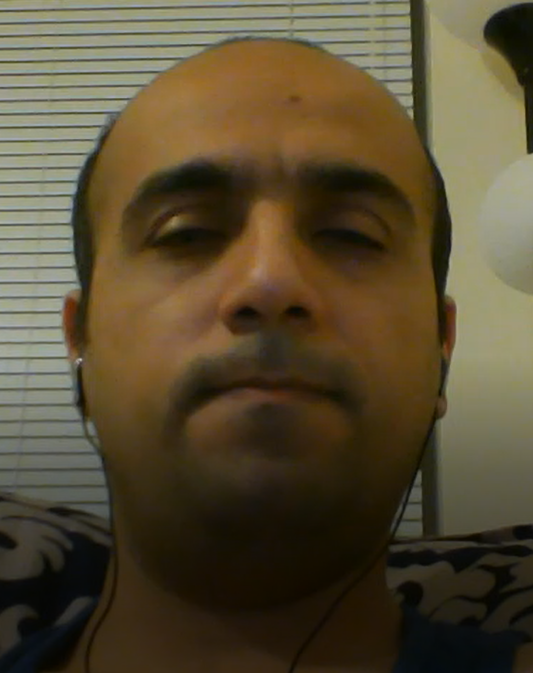Half Asleep: (121, 159, 419, 290)
